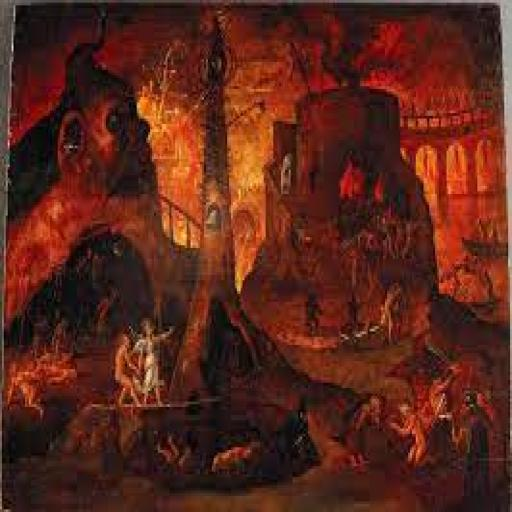person: (456, 380, 492, 509), (390, 393, 428, 485), (430, 348, 459, 462), (141, 304, 169, 420), (105, 328, 137, 420)
